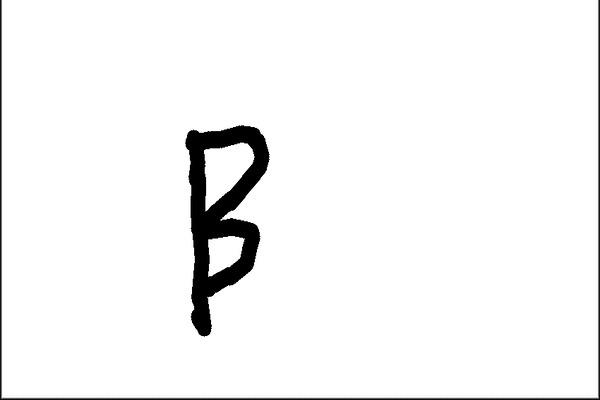B: (168, 113, 279, 345)
